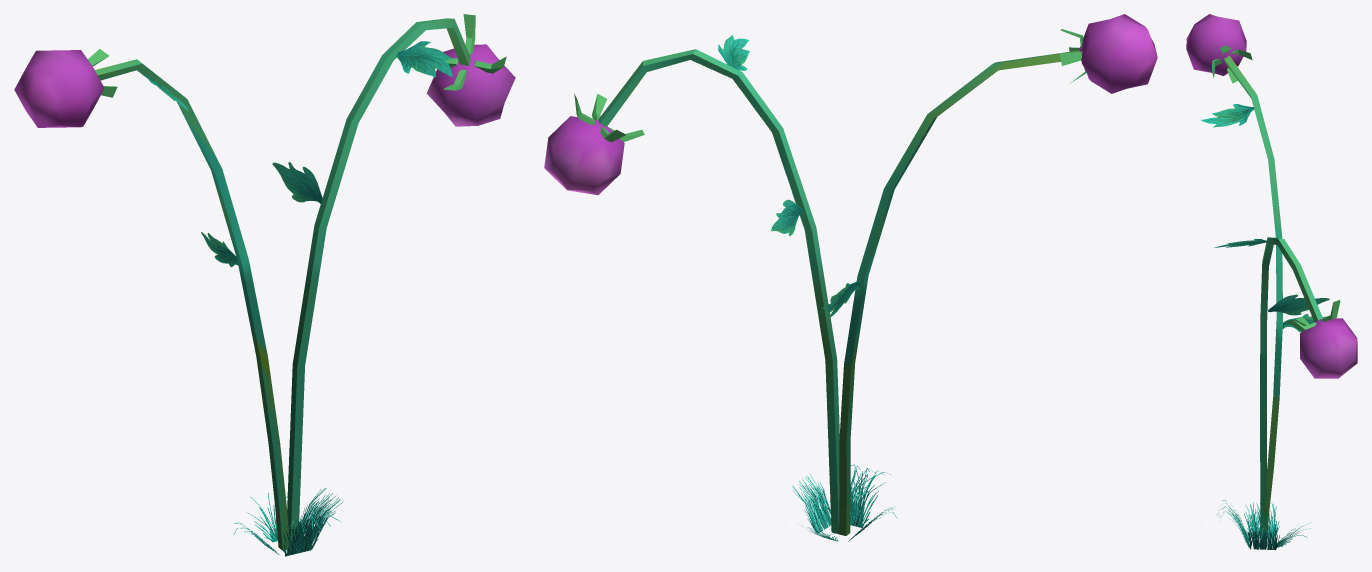
Rendered from fruitPlant.dae.
3 renders of one model, left to right at view 1: azimuth 30°, elevation 25°; view 2: azimuth 150°, elevation 25°; view 3: azimuth 270°, elevation 25°, orthographic. The views are drawn at different scales.
Parts seen in each view (by area): view 1: polySurface33; view 2: polySurface33; view 3: polySurface33.
Part boxes in pixels (left/top/right/bottom): polySurface33: left=14, top=14, right=515, bottom=556; polySurface33: left=544, top=14, right=1157, bottom=541; polySurface33: left=1186, top=14, right=1357, bottom=550.
Size of the model in its own units: 2.23 by 2.23 by 0.7987.
